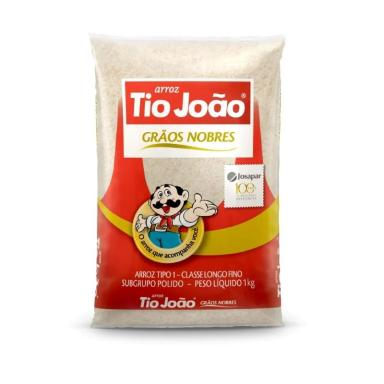rice package: (91, 36, 283, 326)
